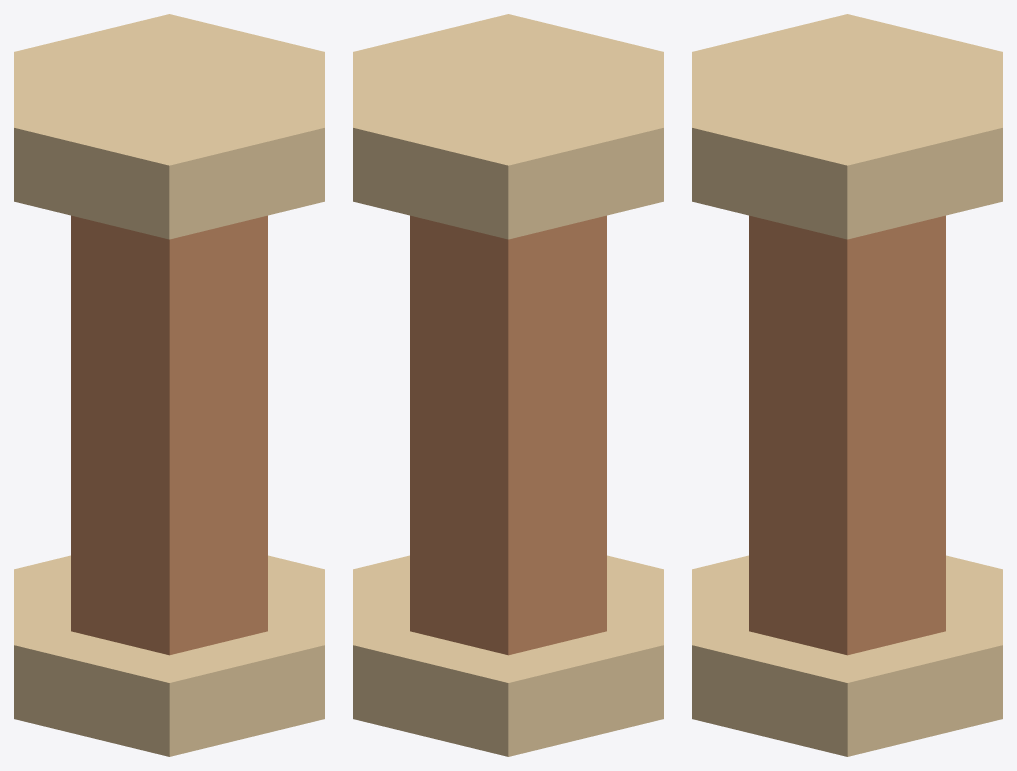
Rendered from Flipper_Holder_Cylindrical.fbx.
The picture shows the model from 3 angles, left to right: view 1: azimuth 30°, elevation 25°; view 2: azimuth 150°, elevation 25°; view 3: azimuth 270°, elevation 25°; orthographic projection.
Parts seen in each view (by area): view 1: hilt_handle; view 2: hilt_handle; view 3: hilt_handle.
Boxes of the visible parts, bbox=[...] form: hilt_handle: bbox=[14, 14, 324, 756]; hilt_handle: bbox=[353, 14, 663, 756]; hilt_handle: bbox=[692, 14, 1002, 756].
Size of the model in its own units: 2.2 by 4 by 1.91.
